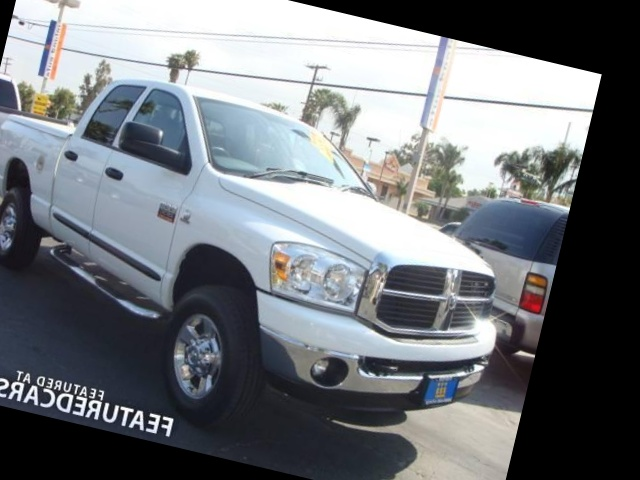car: (0, 44, 535, 473)
